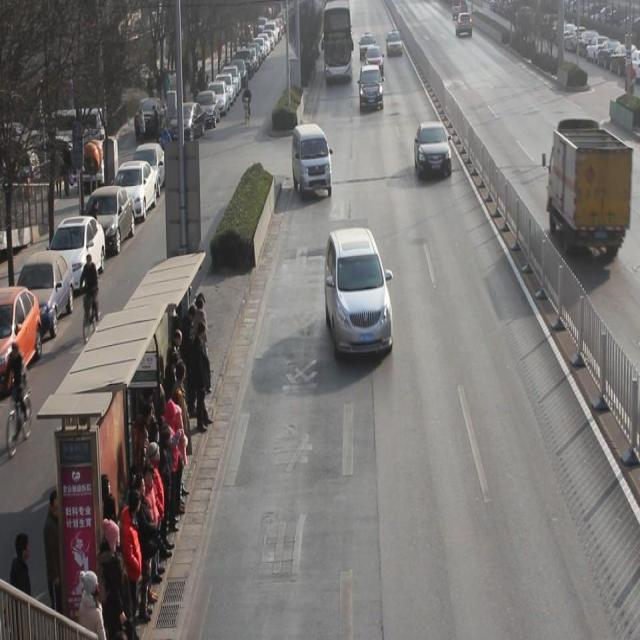bus: (548, 117, 632, 261)
car: (325, 229, 393, 360), (415, 122, 453, 180), (359, 66, 384, 114), (365, 44, 384, 80)
truck: (292, 124, 333, 200)
van: (322, 1, 352, 82)
